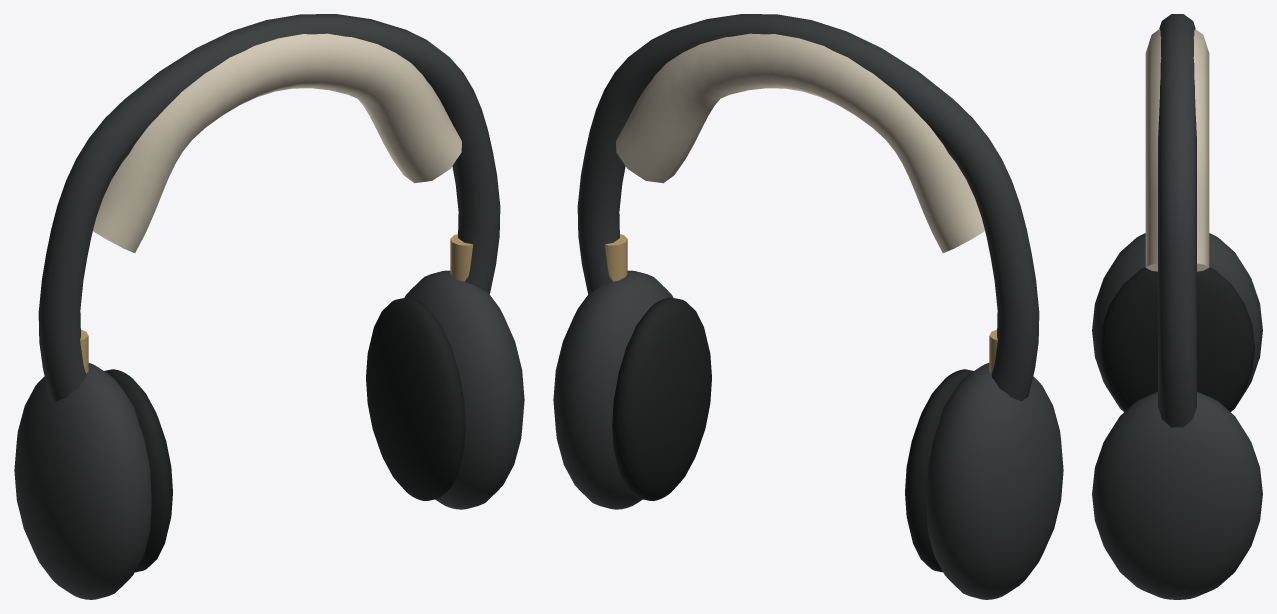
File: campaign_headphones.glb
The picture shows the model from 3 angles, left to right: view 1: azimuth 30°, elevation 25°; view 2: azimuth 150°, elevation 25°; view 3: azimuth 270°, elevation 25°; orthographic projection. The views are drawn at different scales.
Parts seen in each view (by area): view 1: campaign_headphones_Anodised_graphite, campaign_headphones_V17_woven_linen, campaign_headphones_Grip_rubber, campaign_headphones_Satin_champagne; view 2: campaign_headphones_Anodised_graphite, campaign_headphones_V17_woven_linen, campaign_headphones_Grip_rubber, campaign_headphones_Satin_champagne; view 3: campaign_headphones_Anodised_graphite, campaign_headphones_Grip_rubber, campaign_headphones_V17_woven_linen.
Part boxes in pixels (<box>): campaign_headphones_Anodised_graphite: <box>14,14,524,599</box>; campaign_headphones_V17_woven_linen: <box>93,33,461,252</box>; campaign_headphones_Grip_rubber: <box>104,297,465,572</box>; campaign_headphones_Satin_champagne: <box>80,234,473,373</box>; campaign_headphones_Anodised_graphite: <box>553,14,1063,599</box>; campaign_headphones_V17_woven_linen: <box>616,33,984,252</box>; campaign_headphones_Grip_rubber: <box>612,297,973,572</box>; campaign_headphones_Satin_champagne: <box>604,234,997,373</box>; campaign_headphones_Anodised_graphite: <box>1092,14,1262,599</box>; campaign_headphones_Grip_rubber: <box>1100,267,1254,411</box>; campaign_headphones_V17_woven_linen: <box>1145,29,1209,271</box>.
Bounding box in the file's own units: 0.436 × 0.4622 × 0.15.
